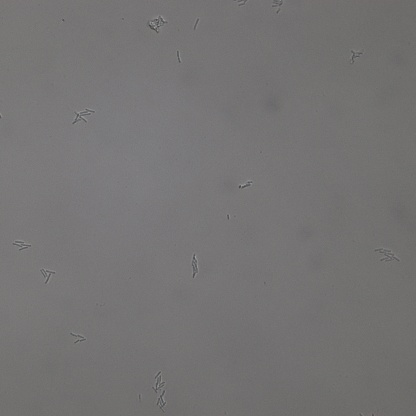R(colony): (146, 16, 167, 33), (375, 248, 400, 262), (73, 108, 95, 123), (189, 252, 200, 278), (153, 370, 165, 392), (41, 268, 55, 284), (13, 239, 31, 251), (157, 393, 167, 412), (350, 49, 362, 64), (70, 333, 87, 343), (272, 1, 283, 13), (238, 181, 251, 191)
